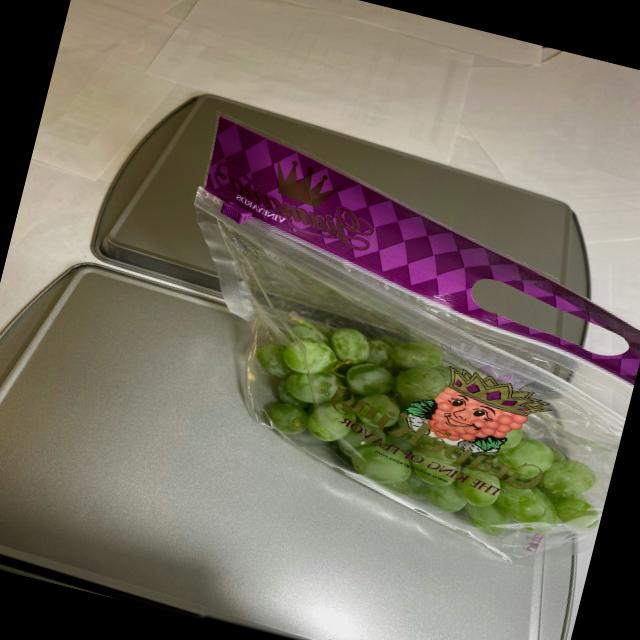grapes: (208, 294, 632, 558)
